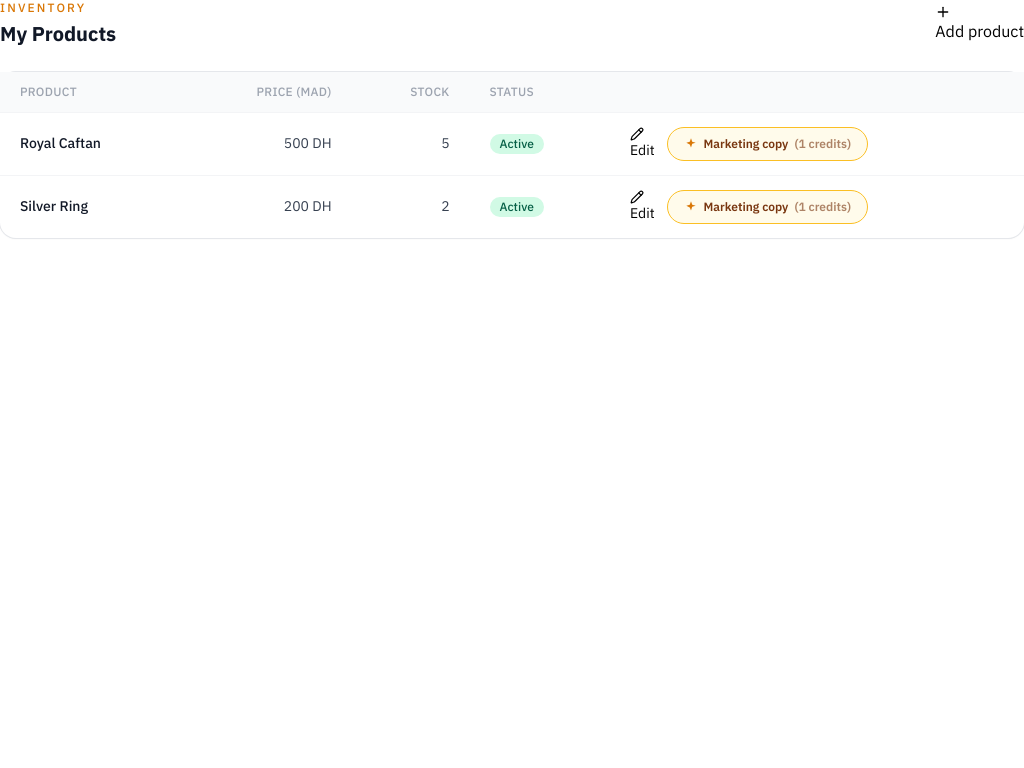
it: SellerProductsPage — Marketing copy › opens InsufficientCreditsModal on 402
Expected: the text "Royal Caftan" is shown, [0, 112, 180, 176]
Click the button "Marketing copy (1 credits)" in the row of "Royal Caftan" at {"x": 767, "y": 144}, box [667, 127, 868, 161]
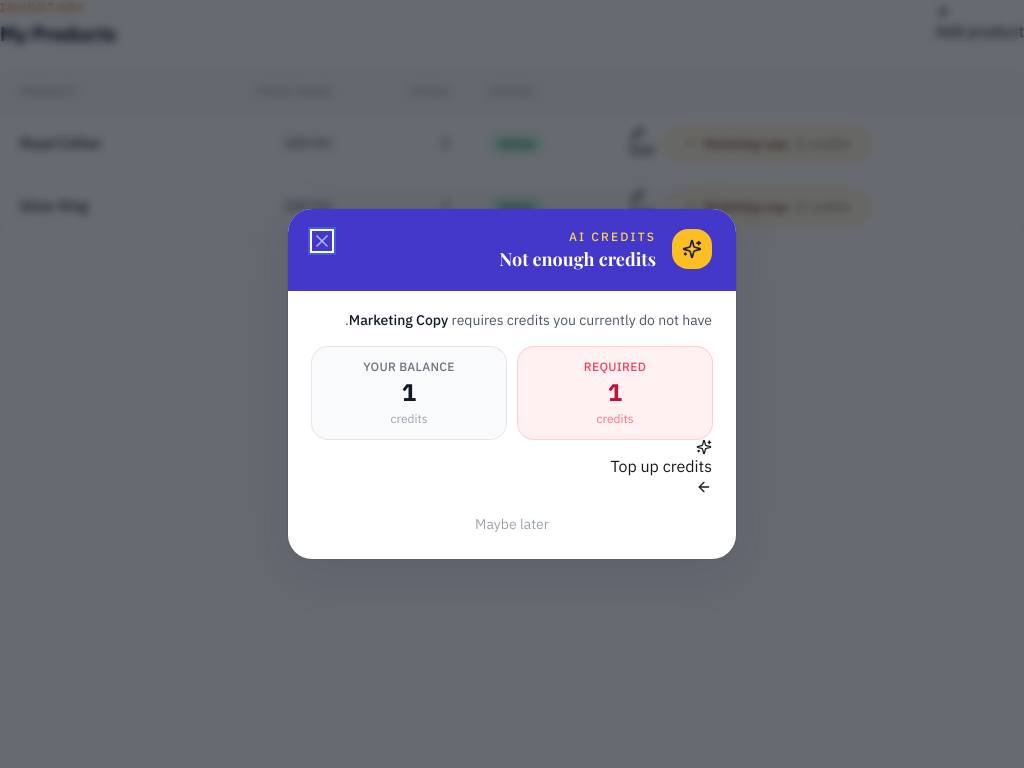
Now the dialog is shown, box [288, 209, 736, 559]
